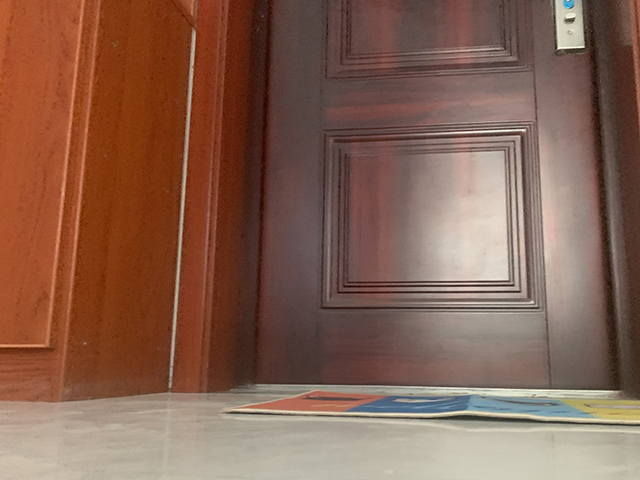cabinet: (1, 1, 197, 403)
carpet: (220, 388, 640, 429)
